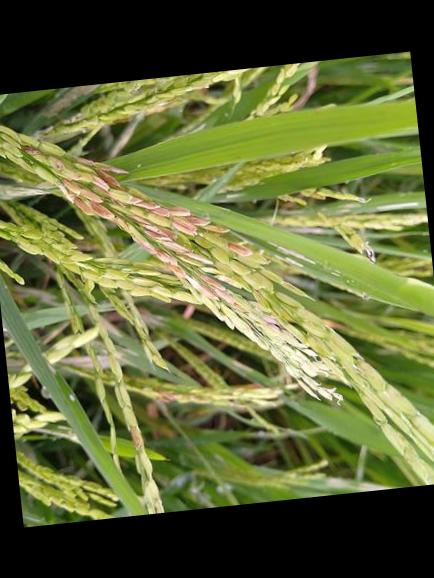Panicle Blight: (130, 212, 212, 262), (129, 195, 210, 235), (131, 235, 187, 277), (62, 178, 114, 217), (76, 156, 128, 190), (194, 272, 242, 303), (153, 387, 211, 402), (129, 422, 143, 450), (227, 241, 252, 256), (261, 313, 282, 330), (202, 222, 228, 232), (48, 156, 63, 169), (23, 145, 42, 155)
